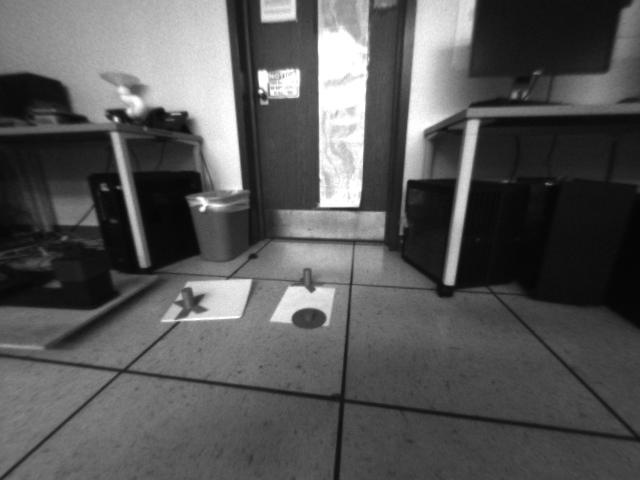X: (168, 284, 208, 321), (292, 266, 327, 292)
